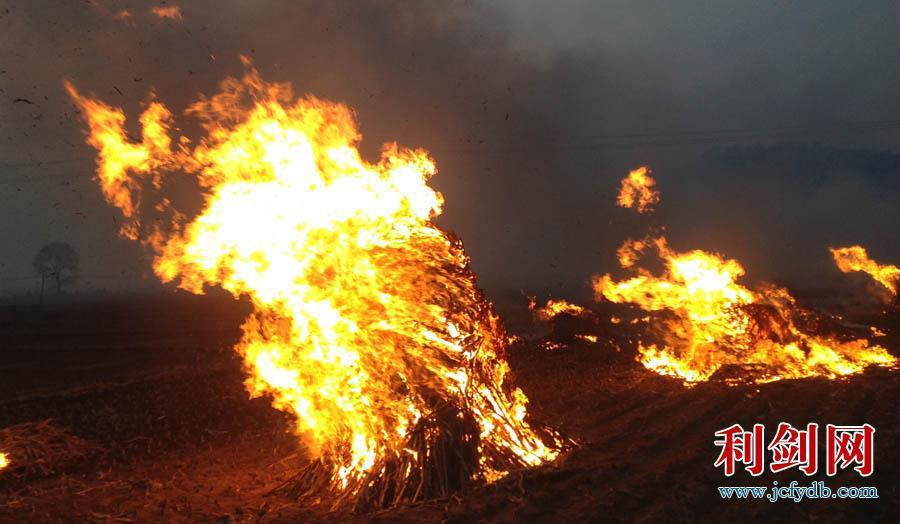fire: (44, 45, 553, 492), (584, 168, 896, 390)
